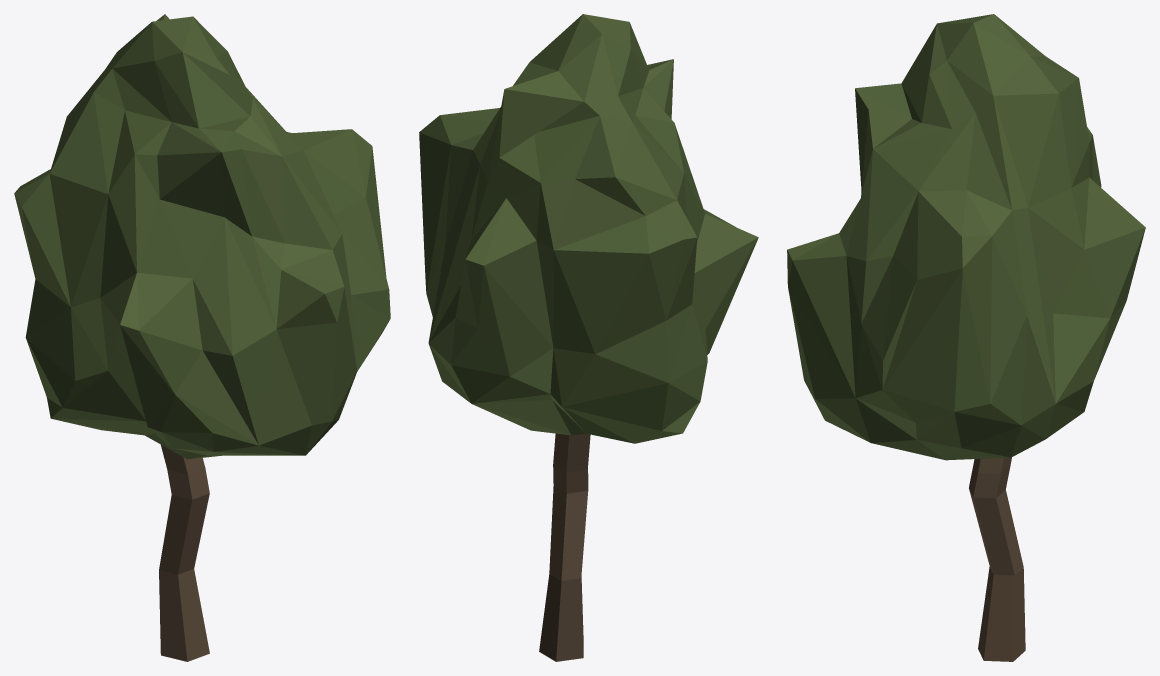
Rendered from Tree_060.fbx.
3 views of the same model, side by side, from view 1: azimuth 30°, elevation 25°; view 2: azimuth 150°, elevation 25°; view 3: azimuth 270°, elevation 25° (orthographic). The views are drawn at different scales.
Parts seen in each view (by area): view 1: Tree_060; view 2: Tree_060; view 3: Tree_060.
Boxes of the visible parts, bbox=[...] form: Tree_060: bbox=[14, 14, 390, 661]; Tree_060: bbox=[419, 14, 758, 661]; Tree_060: bbox=[787, 14, 1145, 661].
Bounding box in the file's own units: 0.6341 × 1.23 × 0.6378.
Materials: 1 (1 with a texture image).
